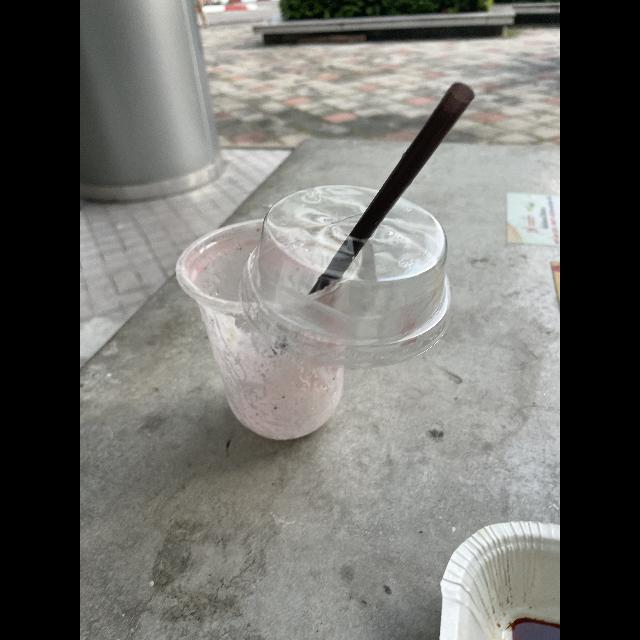plastic_cup: (174, 215, 356, 440)
plastic_cup_lid: (239, 182, 461, 366)
straw: (320, 77, 474, 280)
